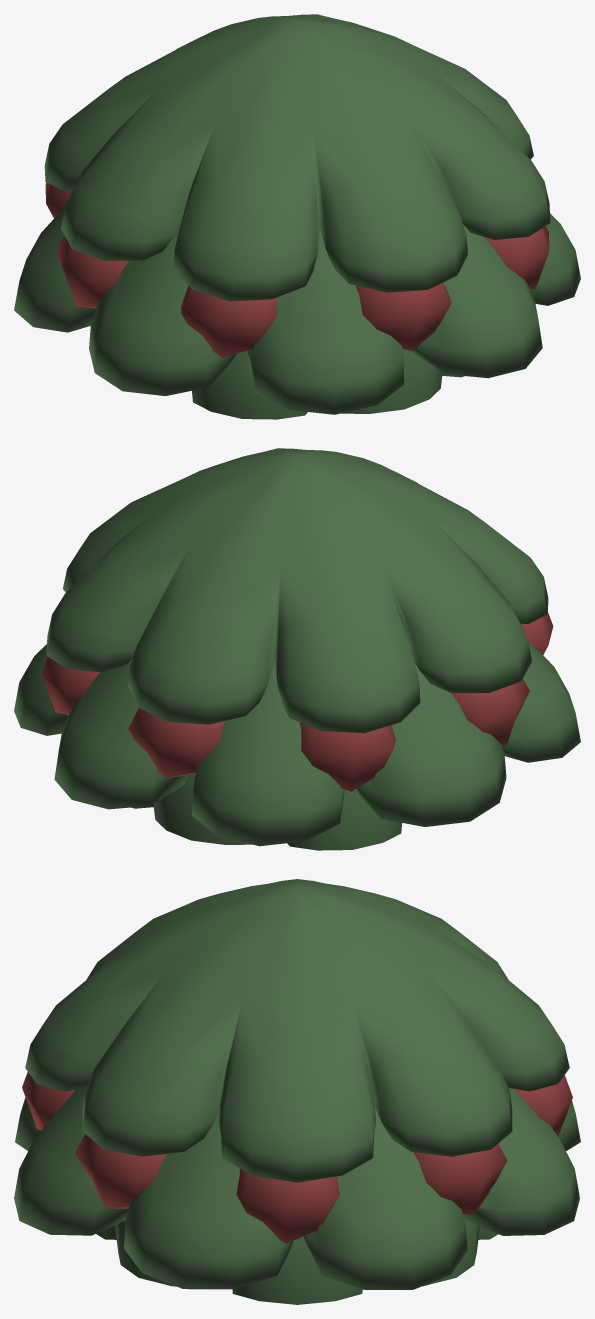
Rendered from Bush_Fruit.glb.
3 renders of one model, top to bottom at view 1: azimuth 30°, elevation 25°; view 2: azimuth 150°, elevation 25°; view 3: azimuth 270°, elevation 25°, orthographic. The views are drawn at different scales.
Parts seen in each view (by area): view 1: Bush_Fruit; view 2: Bush_Fruit; view 3: Bush_Fruit.
Part boxes in pixels (x1,y1,x2,y2): Bush_Fruit: [14, 14, 580, 419]; Bush_Fruit: [14, 448, 580, 850]; Bush_Fruit: [14, 879, 580, 1304].
Bounding box in the file's own units: 3.52 × 2.23 × 3.53.
